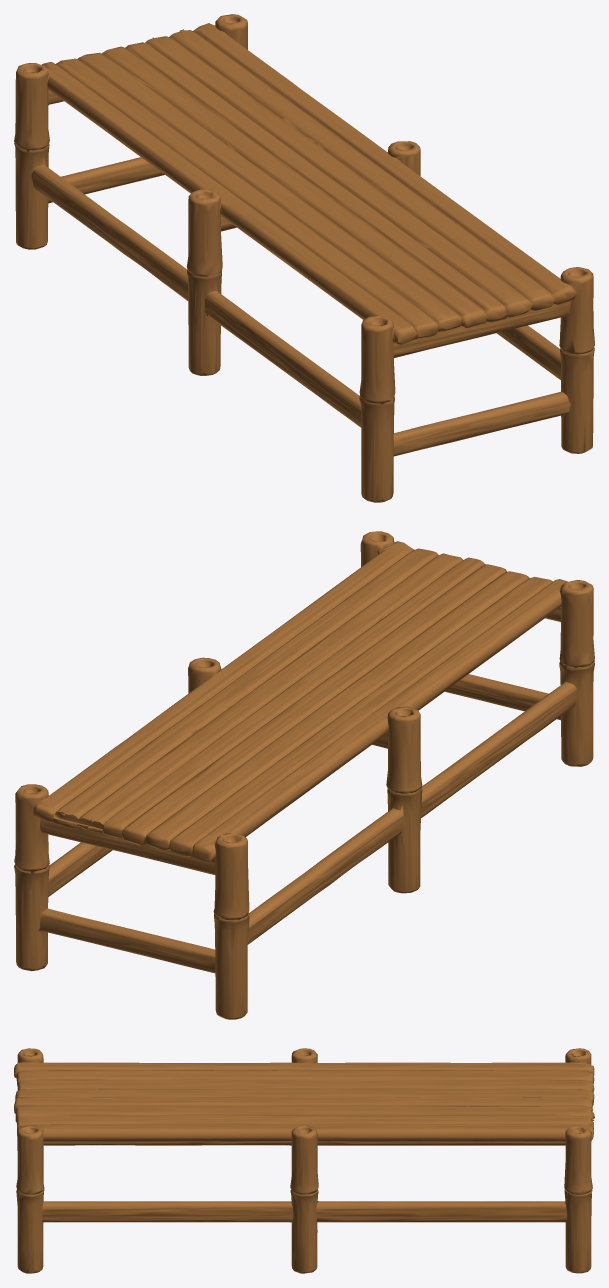
Rendered from sap-thap-vua.d210c55a.glb.
The picture shows the model from 3 angles, top to bottom: view 1: azimuth 30°, elevation 25°; view 2: azimuth 150°, elevation 25°; view 3: azimuth 270°, elevation 25°; orthographic projection. The views are drawn at different scales.
Visible parts, largest first — view 1: tripo_node_d542632d-55fe-40aa-a39c-4f9fd28a59b9; view 2: tripo_node_d542632d-55fe-40aa-a39c-4f9fd28a59b9; view 3: tripo_node_d542632d-55fe-40aa-a39c-4f9fd28a59b9.
Part boxes in pixels (x1=…): tripo_node_d542632d-55fe-40aa-a39c-4f9fd28a59b9: x1=14, y1=14, x2=594, y2=502; tripo_node_d542632d-55fe-40aa-a39c-4f9fd28a59b9: x1=14, y1=531, x2=594, y2=1019; tripo_node_d542632d-55fe-40aa-a39c-4f9fd28a59b9: x1=14, y1=1048, x2=594, y2=1273.
Bounding box in the file's own units: 0.3574 × 0.2605 × 0.9821.
